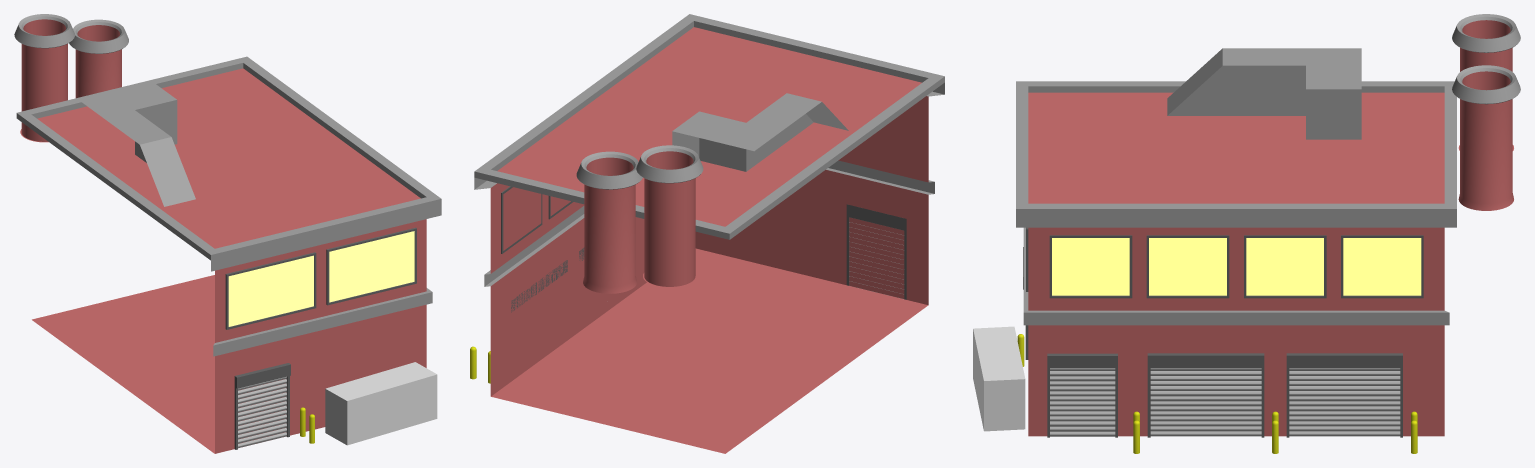
File: vehiclefactory.fbx
3 views of the same model, side by side, from view 1: azimuth 30°, elevation 25°; view 2: azimuth 150°, elevation 25°; view 3: azimuth 270°, elevation 25° (orthographic). The views are drawn at different scales.
Visible parts, largest first — view 1: MainBuilding, Outlines, HUMVEETEMP, RoofDecor, Chimney1, WindowGlow1, WindowGlow2, DoorSmall1, Chimney2, Window1, Window2; view 2: MainBuilding, Outlines, Chimney1, Chimney2, RoofDecor, DoorSmall1, DoorLarge2; view 3: MainBuilding, Outlines, RoofDecor, DoorLarge1, DoorLarge2, Chimney2, DoorSmall2, HUMVEETEMP, WindowGlow6, WindowGlow3, WindowGlow3.001, WindowGlow5 (+5 smaller).
Boxes of the visible parts, box(x1,y1,x2,y2) form: MainBuilding: box(32, 68, 426, 453); Outlines: box(16, 56, 441, 356); HUMVEETEMP: box(325, 362, 437, 445); RoofDecor: box(79, 82, 195, 206); Chimney1: box(14, 14, 74, 142); WindowGlow1: box(228, 255, 313, 326); WindowGlow2: box(329, 231, 414, 302); DoorSmall1: box(234, 363, 290, 449); Chimney2: box(69, 19, 128, 98); Window1: box(225, 252, 316, 329); Window2: box(326, 227, 416, 305); MainBuilding: box(490, 27, 928, 453); Outlines: box(474, 14, 944, 286); Chimney1: box(636, 145, 703, 287); Chimney2: box(576, 151, 642, 293); RoofDecor: box(672, 93, 848, 171); DoorSmall1: box(846, 204, 906, 299); DoorLarge2: box(511, 260, 567, 312); MainBuilding: box(1028, 92, 1444, 436); Outlines: box(1016, 81, 1456, 325); RoofDecor: box(1167, 48, 1361, 139); DoorLarge1: box(1147, 353, 1264, 437); DoorLarge2: box(1286, 353, 1402, 437); Chimney2: box(1452, 65, 1520, 210); DoorSmall2: box(1047, 353, 1117, 437); HUMVEETEMP: box(973, 326, 1025, 431); WindowGlow6: box(1343, 238, 1421, 295); WindowGlow3: box(1052, 238, 1129, 295); WindowGlow3.001: box(1149, 238, 1226, 295); WindowGlow5: box(1246, 238, 1323, 295).
Bounding box in the file's own units: 239 × 247 × 395.
